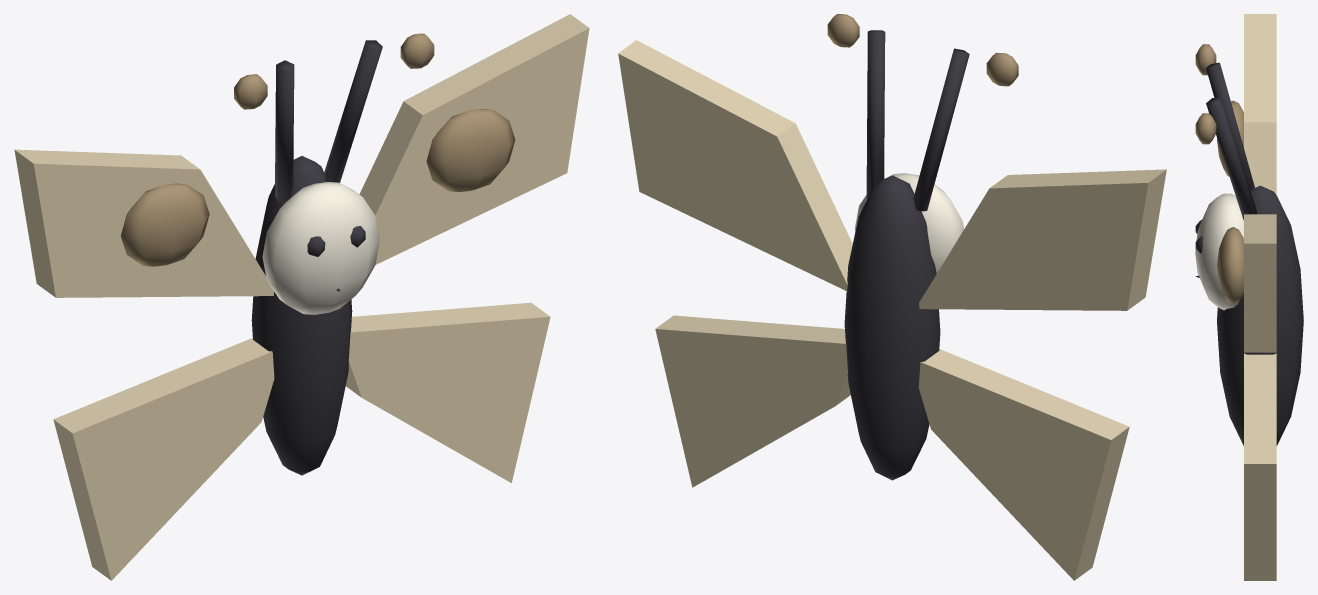
Rendered from moth.glb.
3 views of the same model, side by side, from view 1: azimuth 30°, elevation 25°; view 2: azimuth 150°, elevation 25°; view 3: azimuth 270°, elevation 25° (orthographic). The views are drawn at different scales.
Parts seen in each view (by area): view 1: moth; view 2: moth; view 3: moth.
Part boxes in pixels (left/top/right/bottom): moth: left=14, top=14, right=589, bottom=580; moth: left=618, top=14, right=1166, bottom=580; moth: left=1195, top=14, right=1303, bottom=580.
Bounding box in the file's own units: 0.2 × 0.17 × 0.04.
